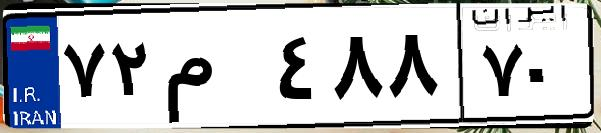0: (525, 38, 570, 115)
2: (110, 28, 158, 98)
4: (270, 28, 330, 110)
7: (57, 26, 110, 100), (475, 38, 525, 113)
8: (385, 28, 445, 110), (330, 28, 385, 110)
م: (158, 20, 270, 120)
